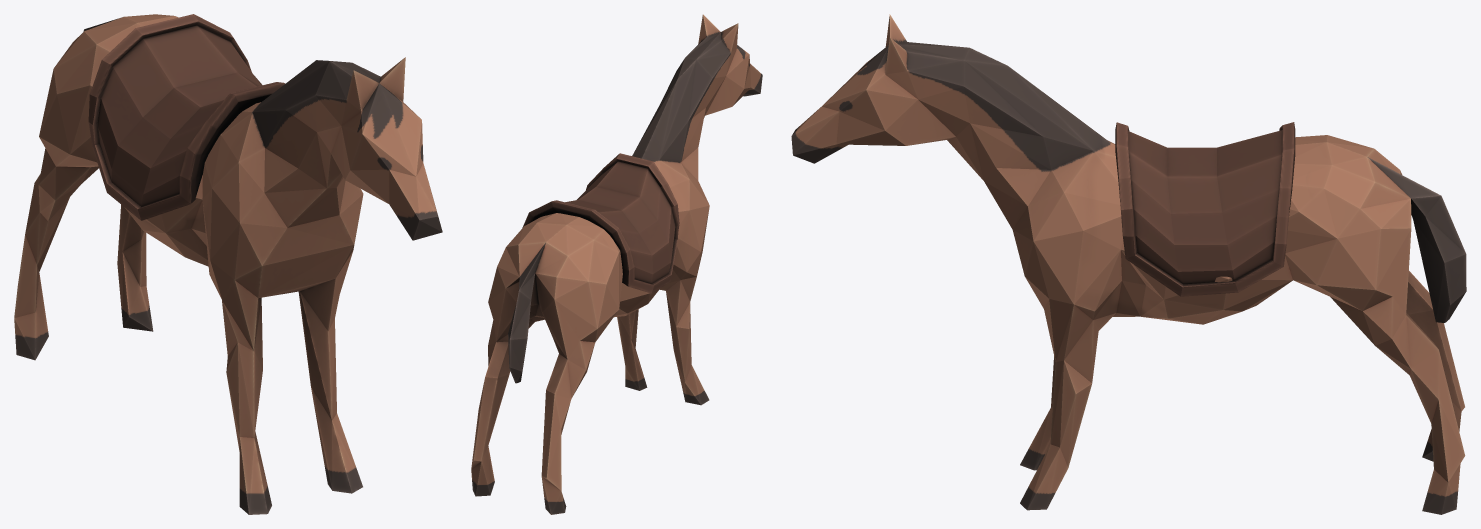
The model's file is Horse.fbx.
3 renders of one model, left to right at view 1: azimuth 30°, elevation 25°; view 2: azimuth 150°, elevation 25°; view 3: azimuth 270°, elevation 25°, orthographic. The views are drawn at different scales.
Visible parts, largest first — view 1: ddadas002, Box036; view 2: ddadas002, Box036; view 3: ddadas002, Box036.
Part boxes in pixels (box(x1,y1,x2,y2)): ddadas002: box(14, 14, 442, 514); Box036: box(88, 14, 284, 220); ddadas002: box(471, 14, 762, 514); Box036: box(522, 153, 679, 293); ddadas002: box(791, 14, 1466, 514); Box036: box(1115, 122, 1295, 296).
Bounding box in the file's own units: 24.47 × 87.91 × 65.92.
Materials: 1 (1 with a texture image).
